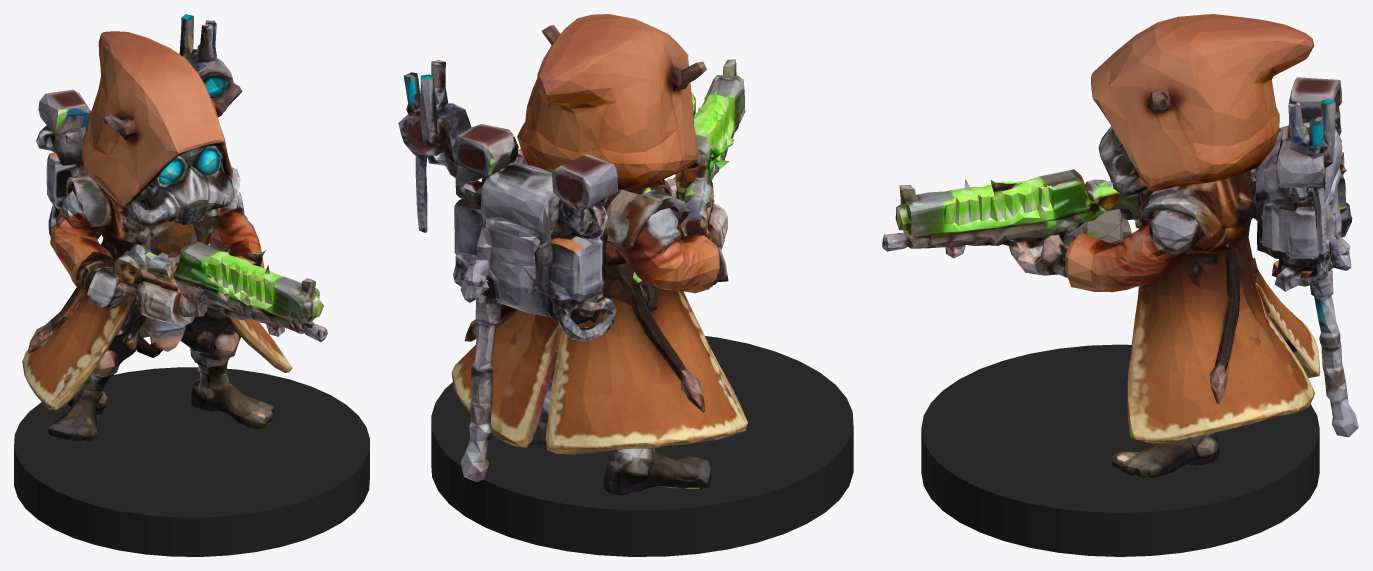
File: skitarii-vanguard.glb
3 renders of one model, left to right at view 1: azimuth 30°, elevation 25°; view 2: azimuth 150°, elevation 25°; view 3: azimuth 270°, elevation 25°, orthographic. The views are drawn at different scales.
Parts seen in each view (by area): view 1: figure, base; view 2: figure, base; view 3: figure, base.
Part boxes in pixels (<box>): figure: <box>22,14,327,441</box>; base: <box>14,367,369,556</box>; figure: <box>398,14,747,495</box>; base: <box>431,336,853,556</box>; figure: <box>882,14,1358,477</box>; base: <box>921,344,1319,556</box>.
Bounding box in the file's own units: 0.9843 × 1.22 × 1.18.
Materials: 2 (1 with a texture image).
